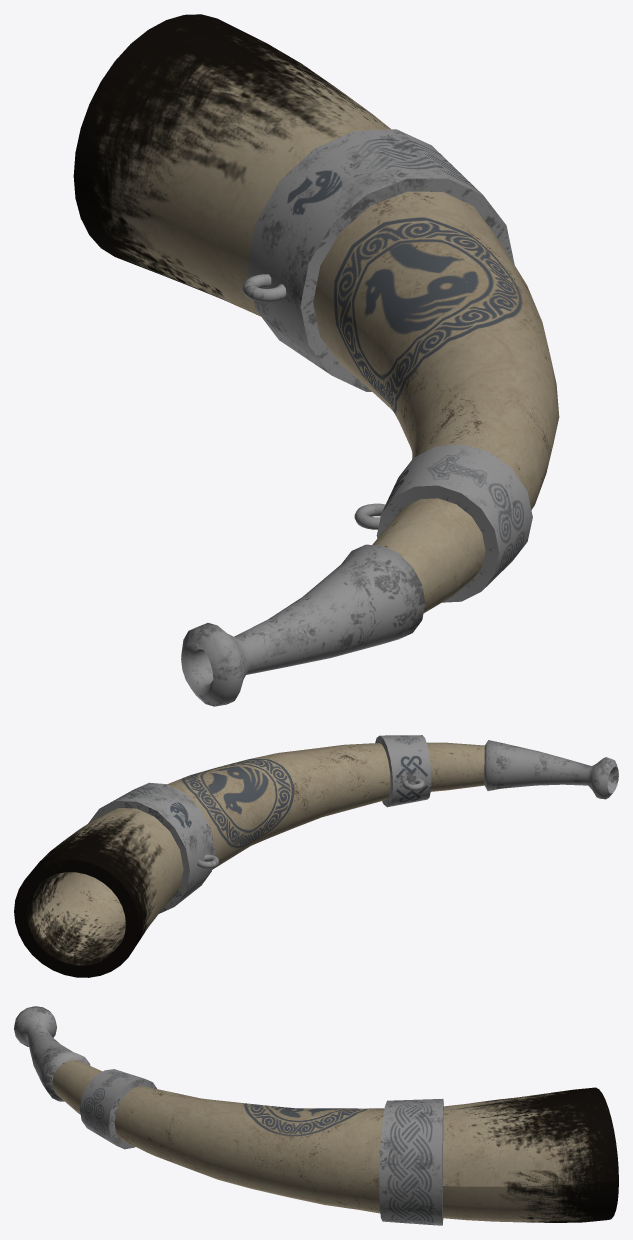
File: 5VikingsObjectsHorn.glb
3 renders of one model, top to bottom at view 1: azimuth 30°, elevation 25°; view 2: azimuth 150°, elevation 25°; view 3: azimuth 270°, elevation 25°, orthographic. The views are drawn at different scales.
Parts seen in each view (by area): view 1: VikingsObjectsHorn; view 2: VikingsObjectsHorn; view 3: VikingsObjectsHorn.
Boxes of the visible parts, x1,y1,x2,y2 form: VikingsObjectsHorn: (73,14,559,706); VikingsObjectsHorn: (14,735,618,977); VikingsObjectsHorn: (14,1006,618,1225).
Bounding box in the file's own units: 0.7446 × 0.2518 × 1.14.
Materials: 2 (2 with a texture image).
